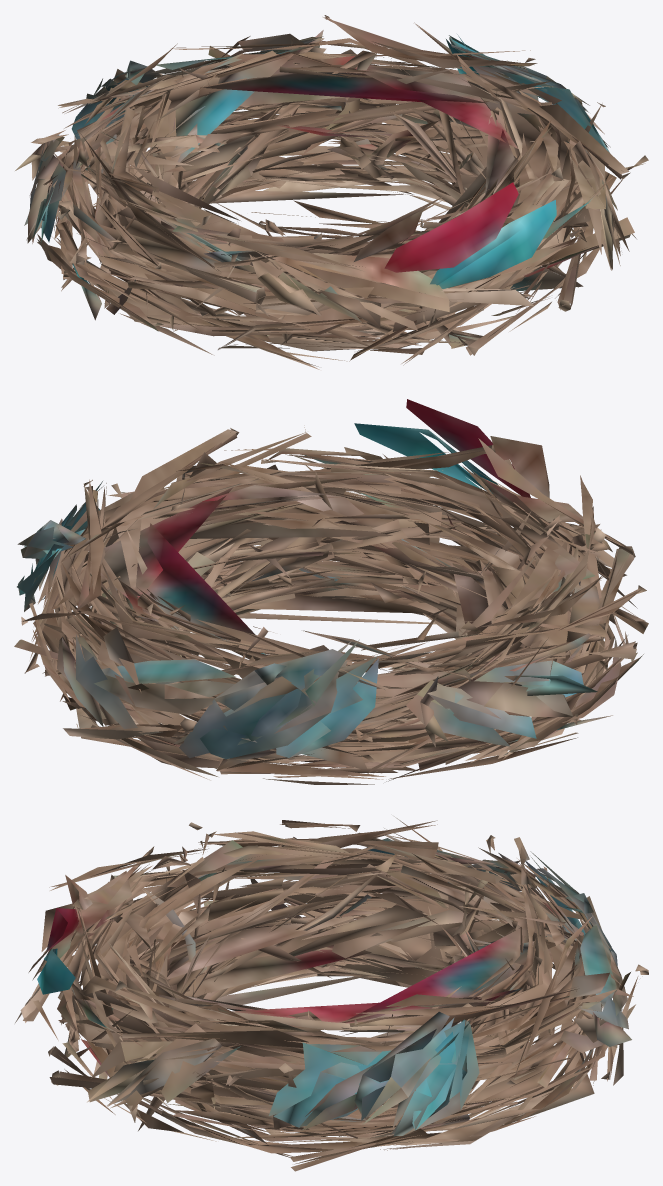
The model's file is koa_nest.glb.
The picture shows the model from 3 angles, top to bottom: view 1: azimuth 30°, elevation 25°; view 2: azimuth 150°, elevation 25°; view 3: azimuth 270°, elevation 25°; orthographic projection. The views are drawn at different scales.
Parts seen in each view (by area): view 1: Mesh_0; view 2: Mesh_0; view 3: Mesh_0.
Boxes of the visible parts, bbox=[...] form: Mesh_0: bbox=[15, 15, 648, 369]; Mesh_0: bbox=[14, 399, 648, 784]; Mesh_0: bbox=[15, 816, 648, 1171].
Bounding box in the file's own units: 1.3 × 0.3758 × 1.27.
Materials: 1 (1 with a texture image).
